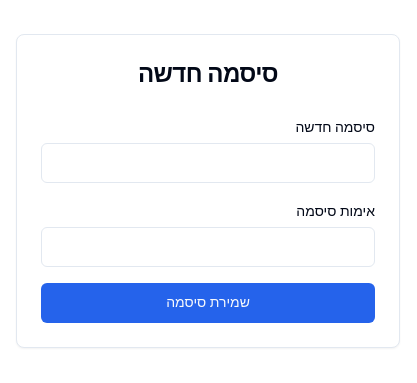
Scenario: ResetPasswordPage › rejects mismatched passwords without calling Supabase
In the password field labelled "סיסמה חדשה": (208, 163) x1=41 y1=143 x2=375 y2=183, type "secret123"
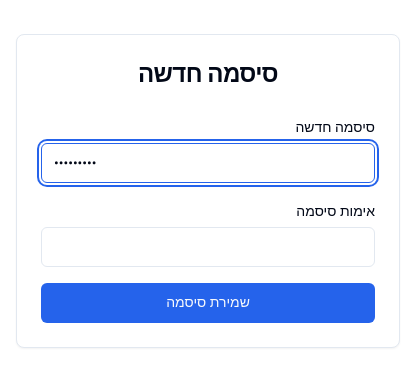
In the password field labelled "אימות סיסמה": (208, 247) x1=41 y1=227 x2=375 y2=267, type "secret124"
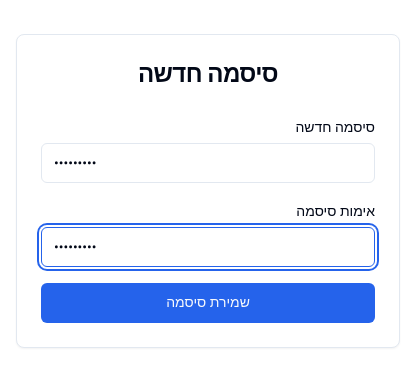
Click the button "שמירת סיסמה": (208, 303) x1=41 y1=283 x2=375 y2=323
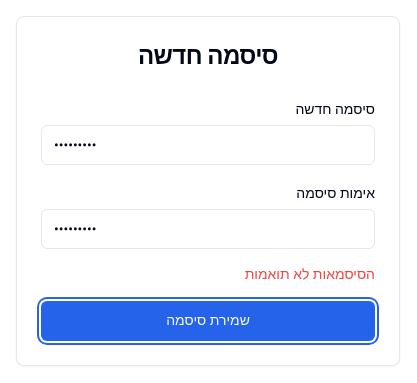
Expected: the message reads "הסיסמאות לא תואמות", x1=245 y1=264 x2=375 y2=285
